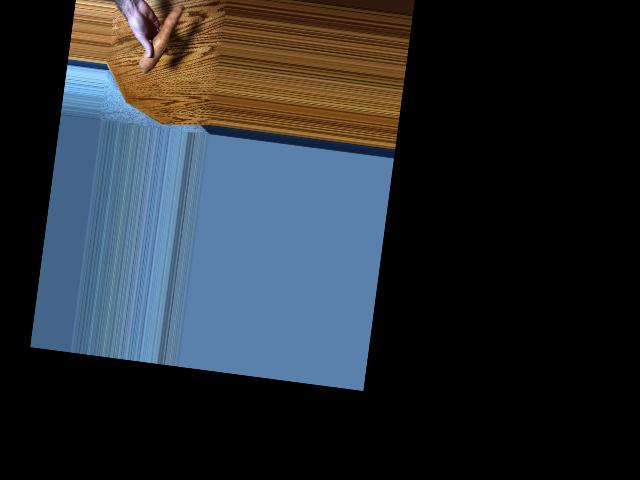sweet_potato: (146, 0, 179, 79)
